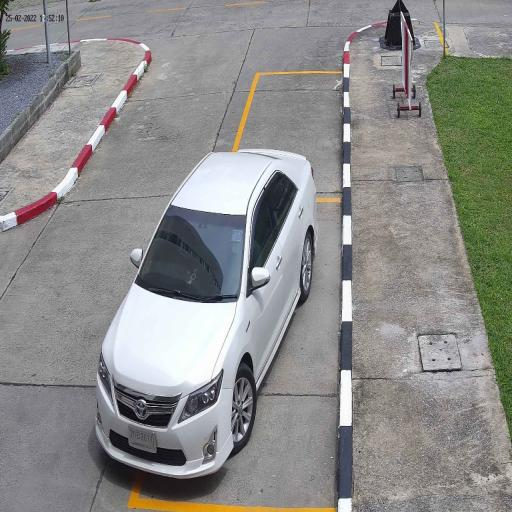car: (95, 147, 316, 478)
